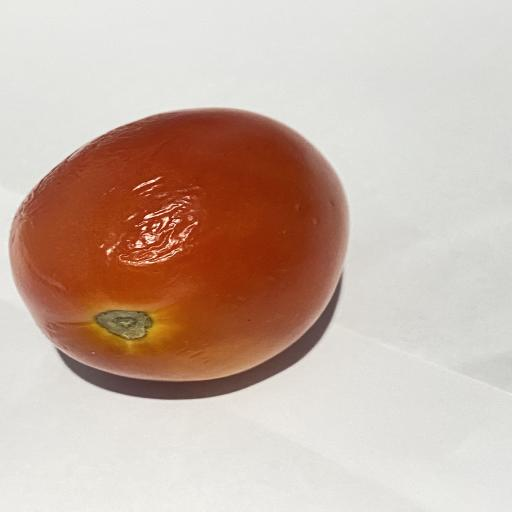spoiled: (10, 108, 348, 381)
